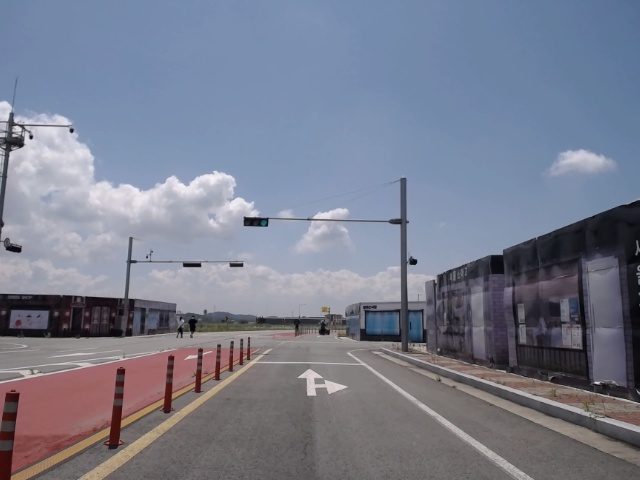green_3: (243, 217, 269, 227)
